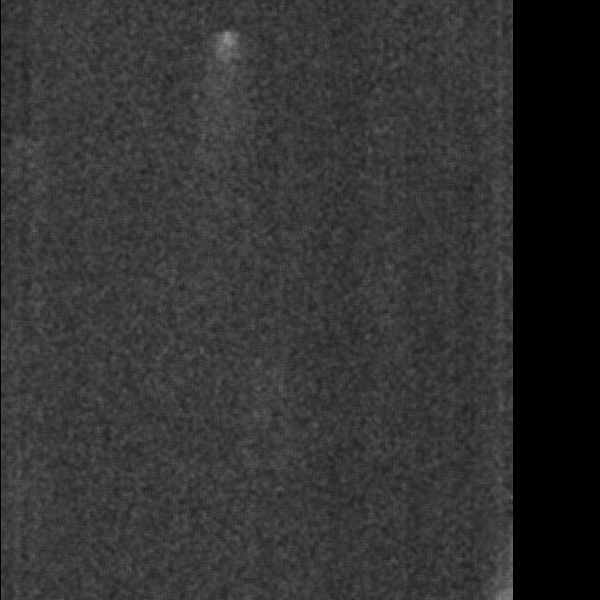spark: (211, 27, 243, 79)
